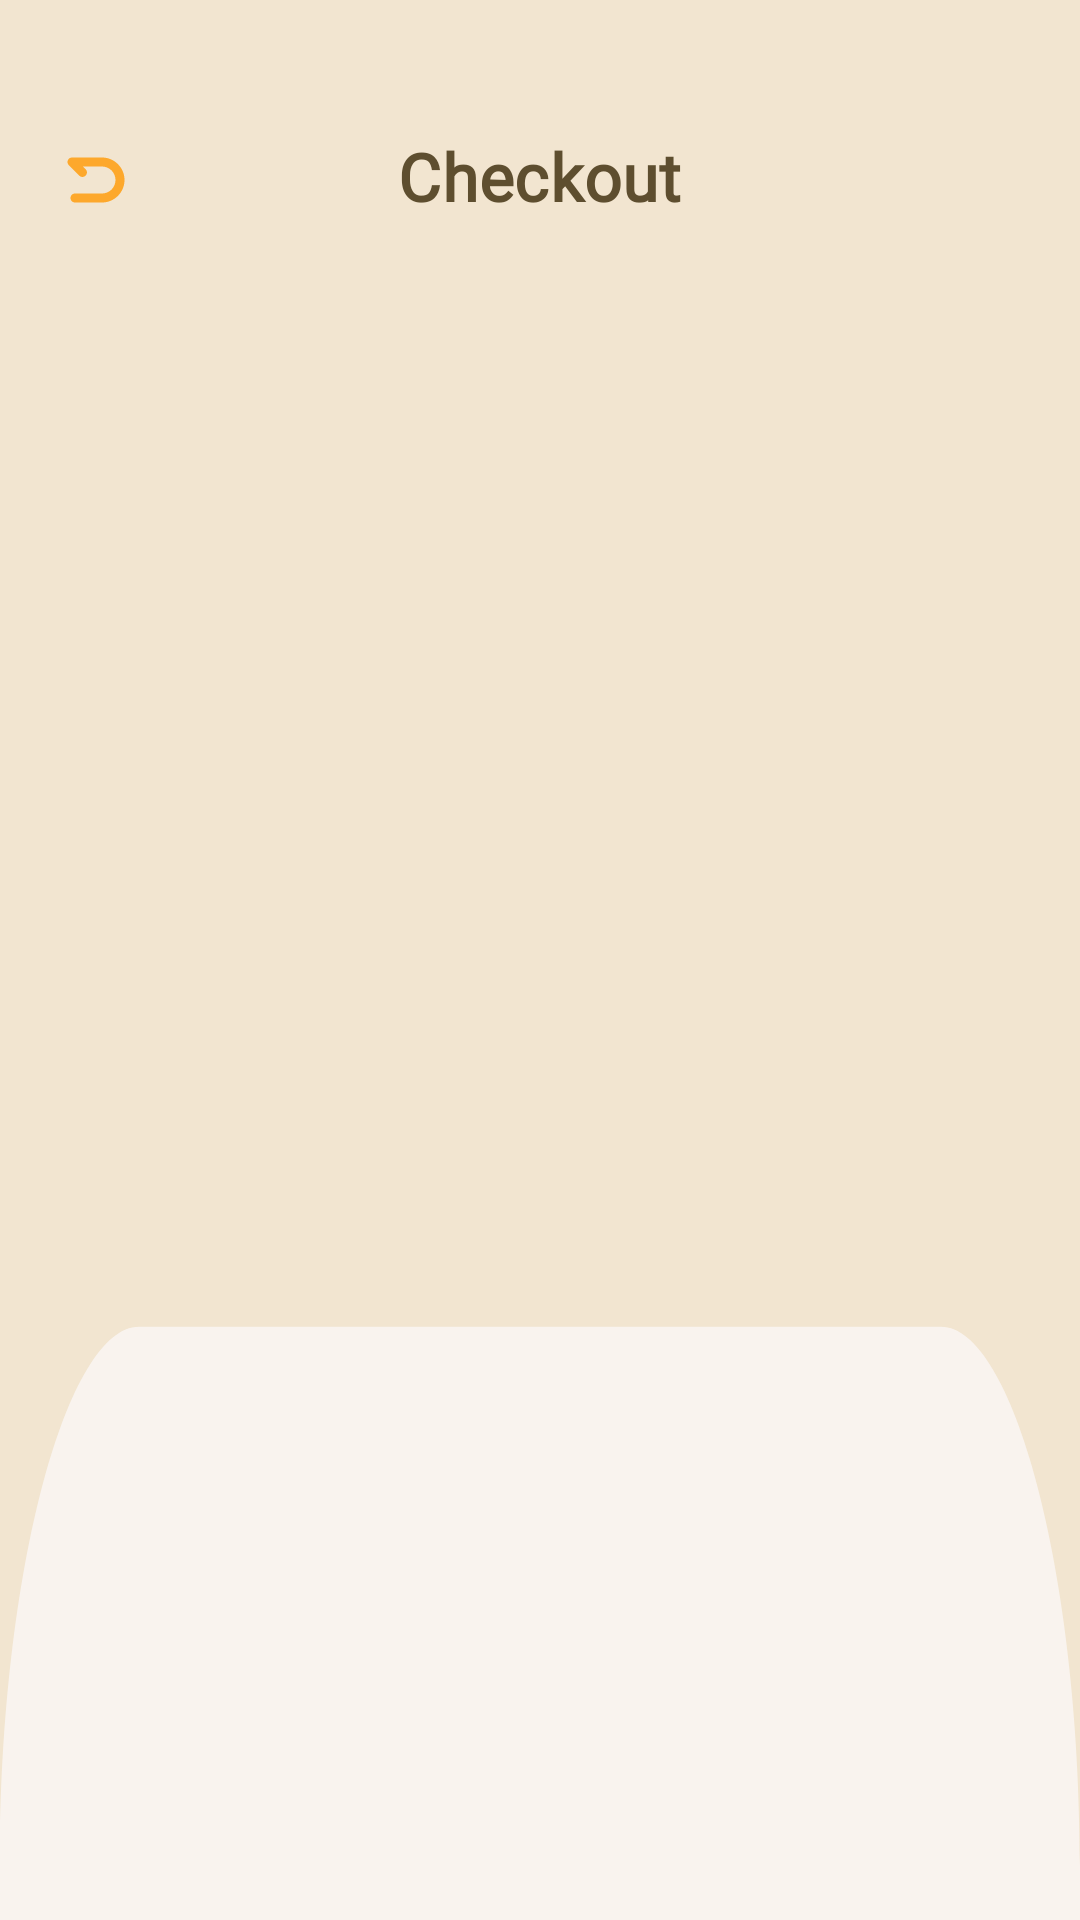

Named icons in this screenshot (1080 x 1920) and their centers, [x,y]:
back: [96,180]
